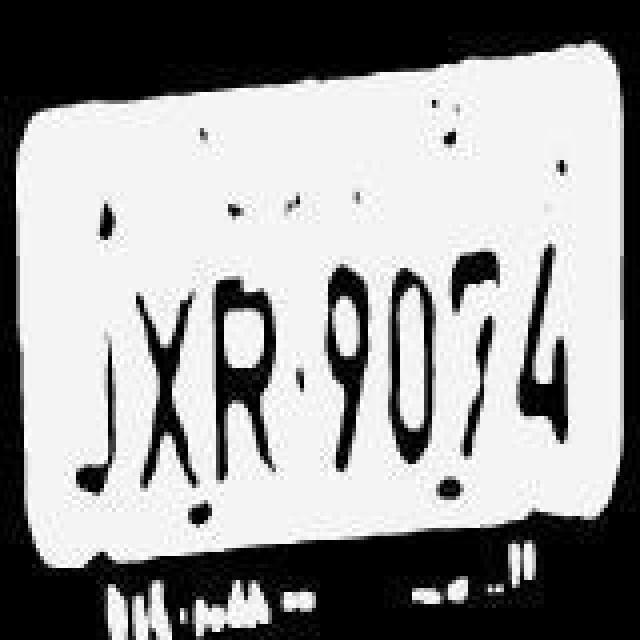4: (516, 222, 588, 466)
7: (452, 216, 516, 464)
9: (316, 250, 380, 502)
J: (56, 306, 128, 526)
O: (382, 242, 450, 478)
R: (206, 254, 290, 490)
X: (130, 280, 206, 504)
